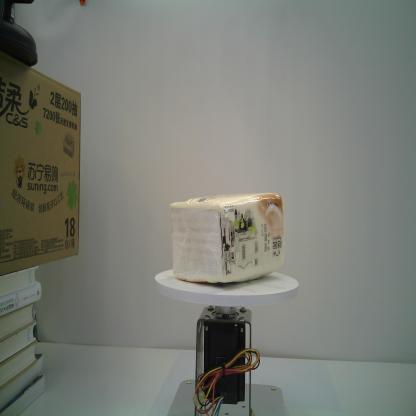Tissue: (169, 192, 285, 284)
